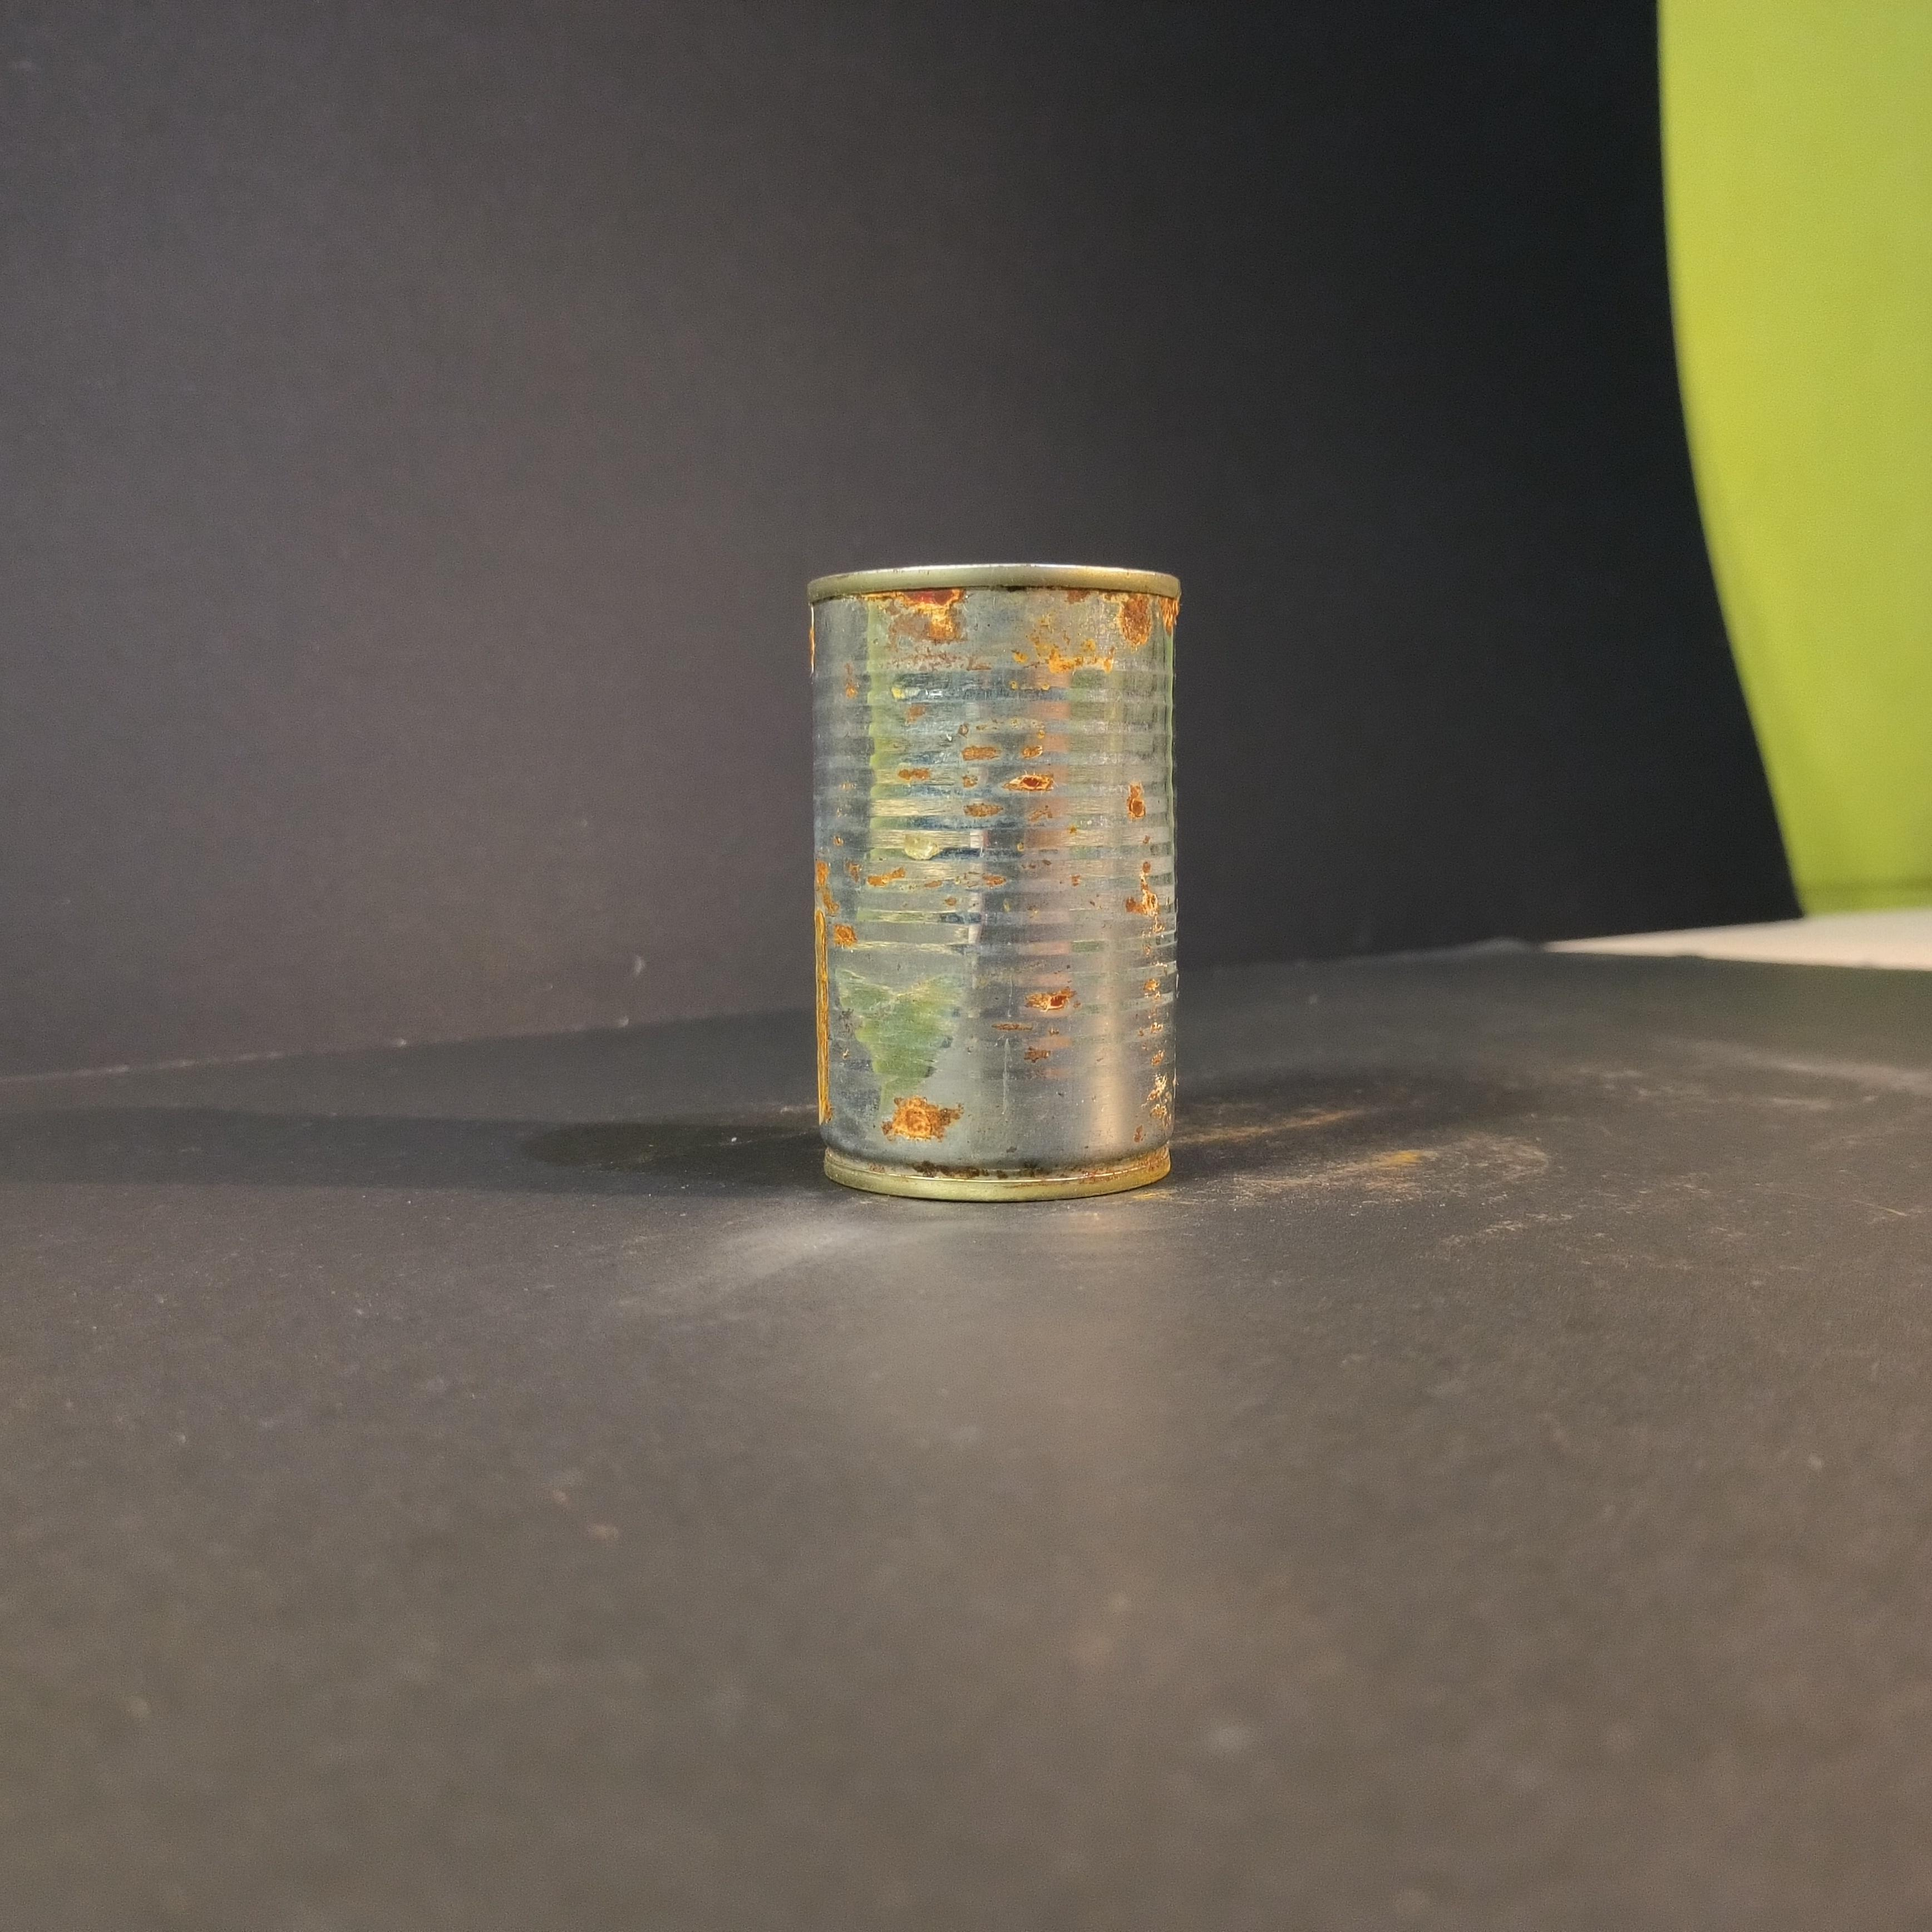Rusted: (784, 543, 1219, 1219)
